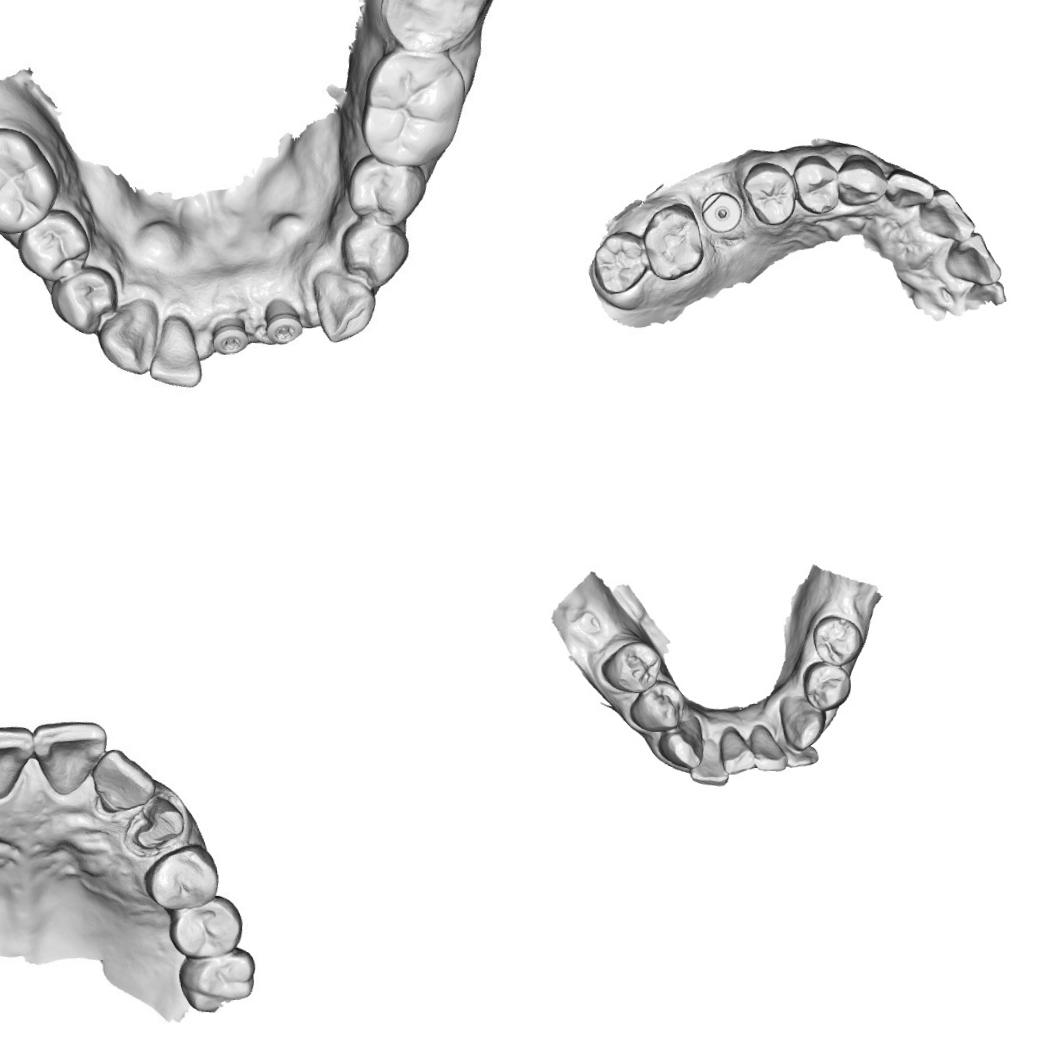canine: (310, 264, 381, 339), (98, 298, 161, 372), (776, 690, 829, 752), (834, 150, 888, 208), (654, 713, 706, 772)
crown: (124, 793, 186, 858)
implant: (699, 189, 744, 235)
implant_minus: (256, 287, 312, 357), (207, 304, 256, 362)
incisor: (32, 718, 108, 798), (86, 745, 160, 824), (146, 310, 206, 386), (915, 185, 976, 245), (941, 229, 1002, 289), (0, 721, 39, 806), (883, 166, 936, 212), (686, 734, 729, 789), (747, 720, 788, 776), (716, 722, 756, 776), (775, 728, 821, 770)
molar: (358, 38, 476, 170), (178, 944, 260, 1022), (377, 0, 493, 53), (0, 123, 55, 230), (173, 891, 248, 966), (640, 198, 706, 282), (588, 226, 650, 297)
premolar: (342, 148, 430, 233), (13, 204, 88, 282), (144, 842, 220, 915), (342, 213, 412, 289), (50, 260, 119, 332), (741, 158, 799, 228), (597, 637, 664, 696), (808, 610, 866, 668), (625, 678, 685, 734), (791, 151, 842, 216), (799, 659, 853, 712)
